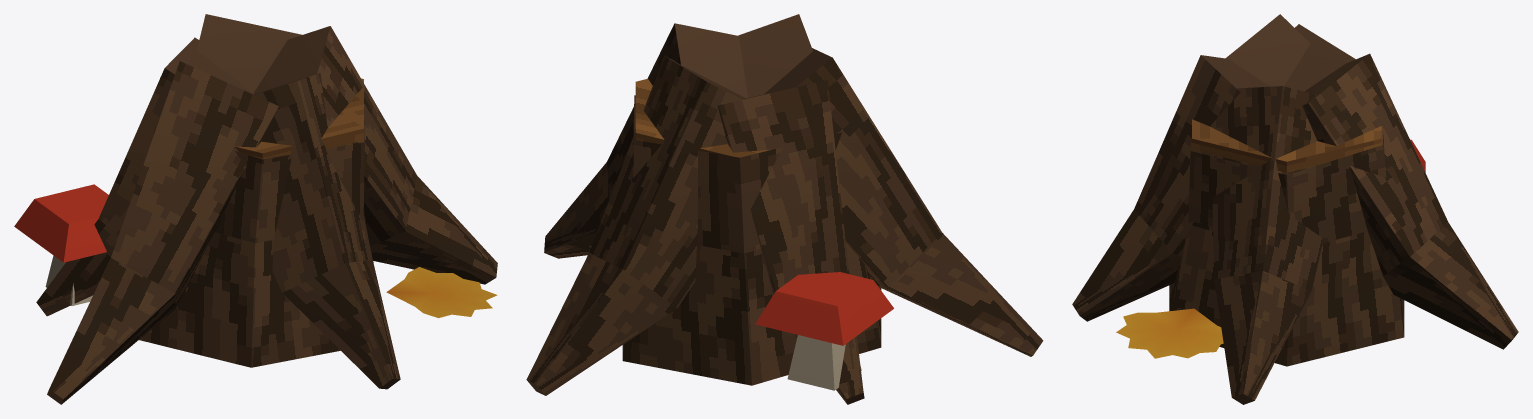
Rendered from stump.glb.
3 renders of one model, left to right at view 1: azimuth 30°, elevation 25°; view 2: azimuth 150°, elevation 25°; view 3: azimuth 270°, elevation 25°, orthographic. The views are drawn at different scales.
Parts seen in each view (by area): view 1: stump; view 2: stump; view 3: stump.
Part boxes in pixels (x1,y1,x2,y2): stump: (14,14,497,404); stump: (526,14,1043,404); stump: (1072,14,1518,404).
Bounding box in the file's own units: 1.63 × 0.9353 × 1.45.
6 materials, 3 textured.
